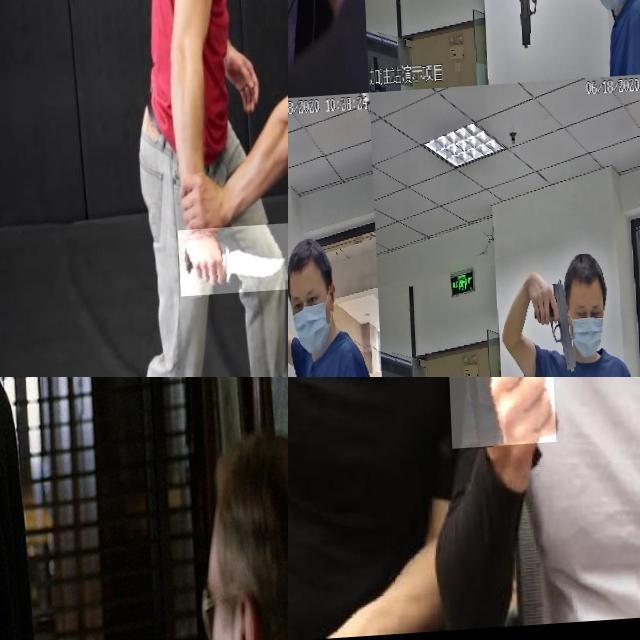-: (437, 377, 551, 529), (173, 228, 286, 300)
gun-knife-thesis - v11 Yolov5 augmented: (529, 282, 569, 373), (288, 0, 322, 103), (507, 0, 547, 49), (288, 300, 301, 377)
